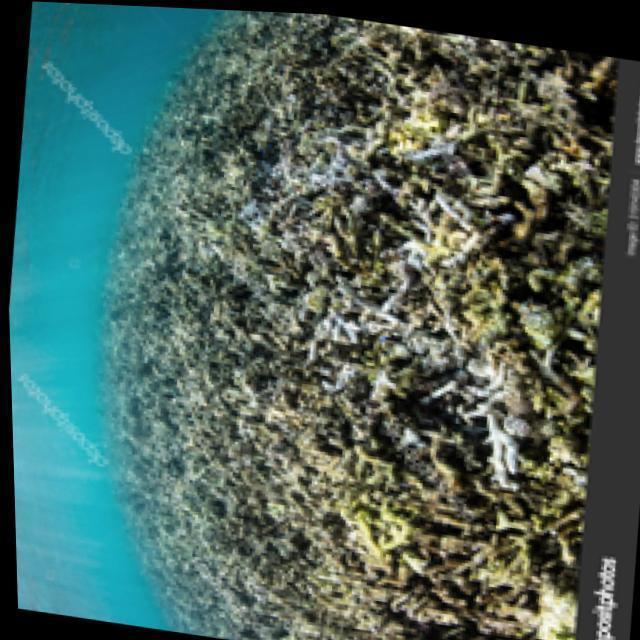Dead Coral: (244, 169, 571, 519)
